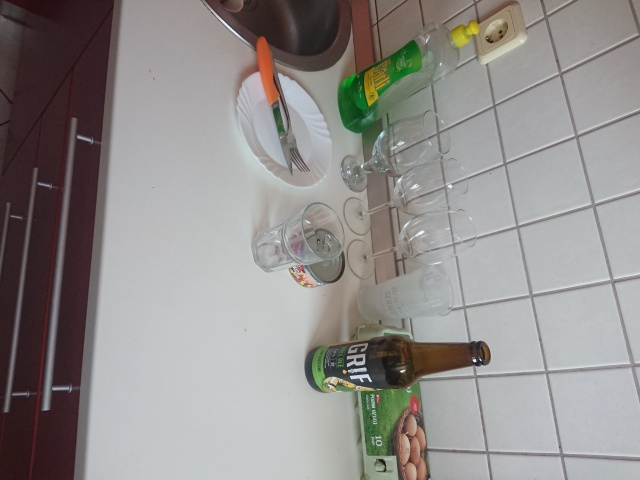Giana Tuna Salad Mexico 185g: (286, 226, 348, 291)
